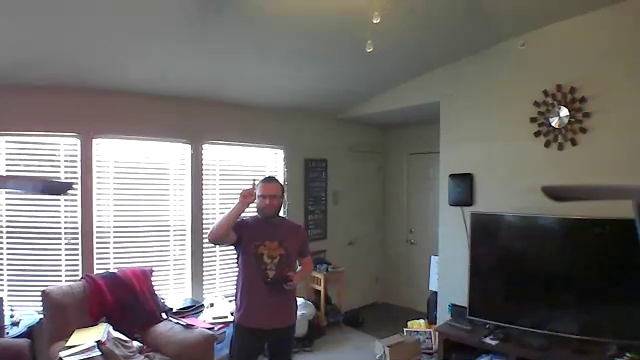up: (238, 173, 259, 204)
